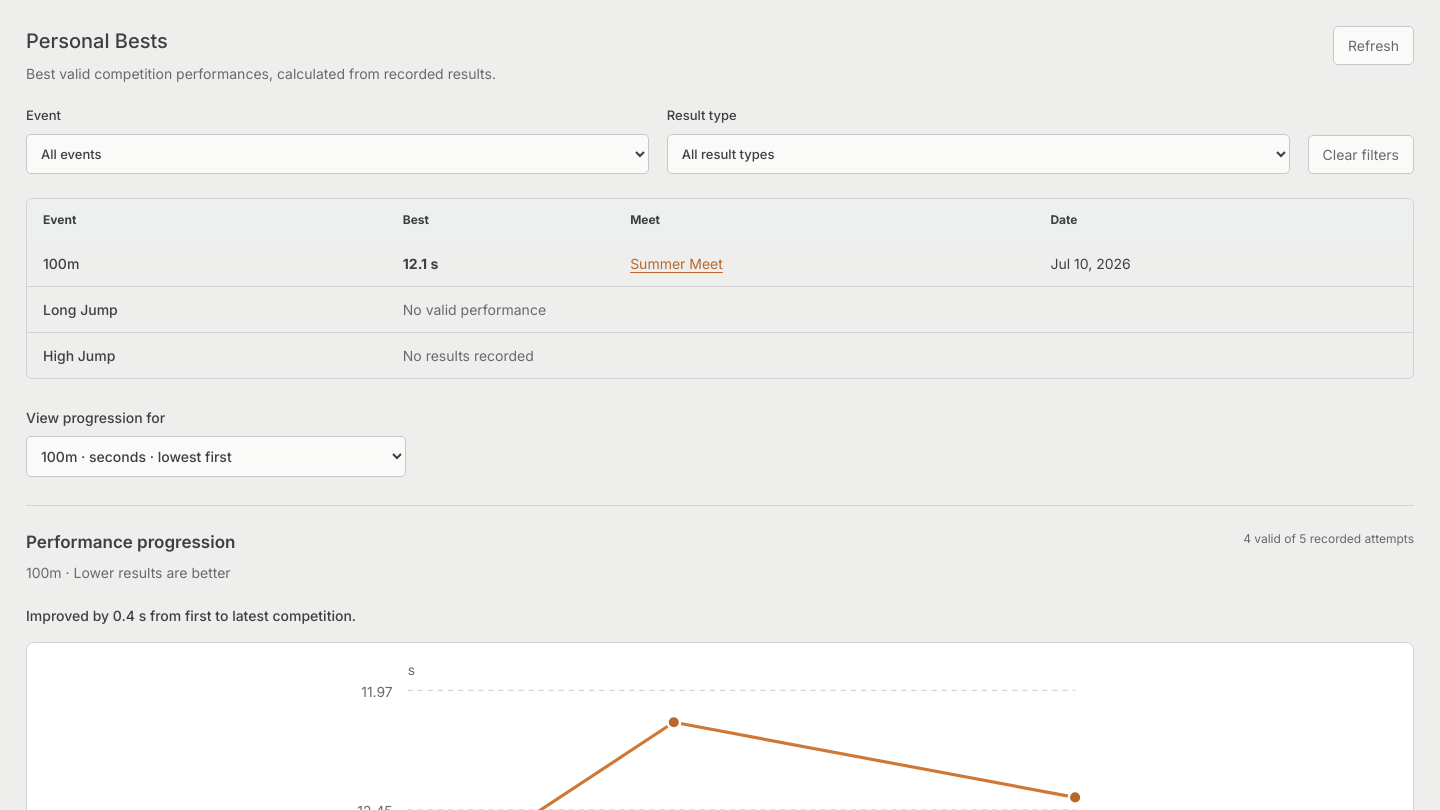
Test: personal bests › distinguishes an invalid-only event from an event with no recorded results
The image size is (1440, 810).
Select "Long Jump · metres · highest first" in the dropdown labelled "View progression for". click: (216, 456)
box: 26,436 -> 406,476
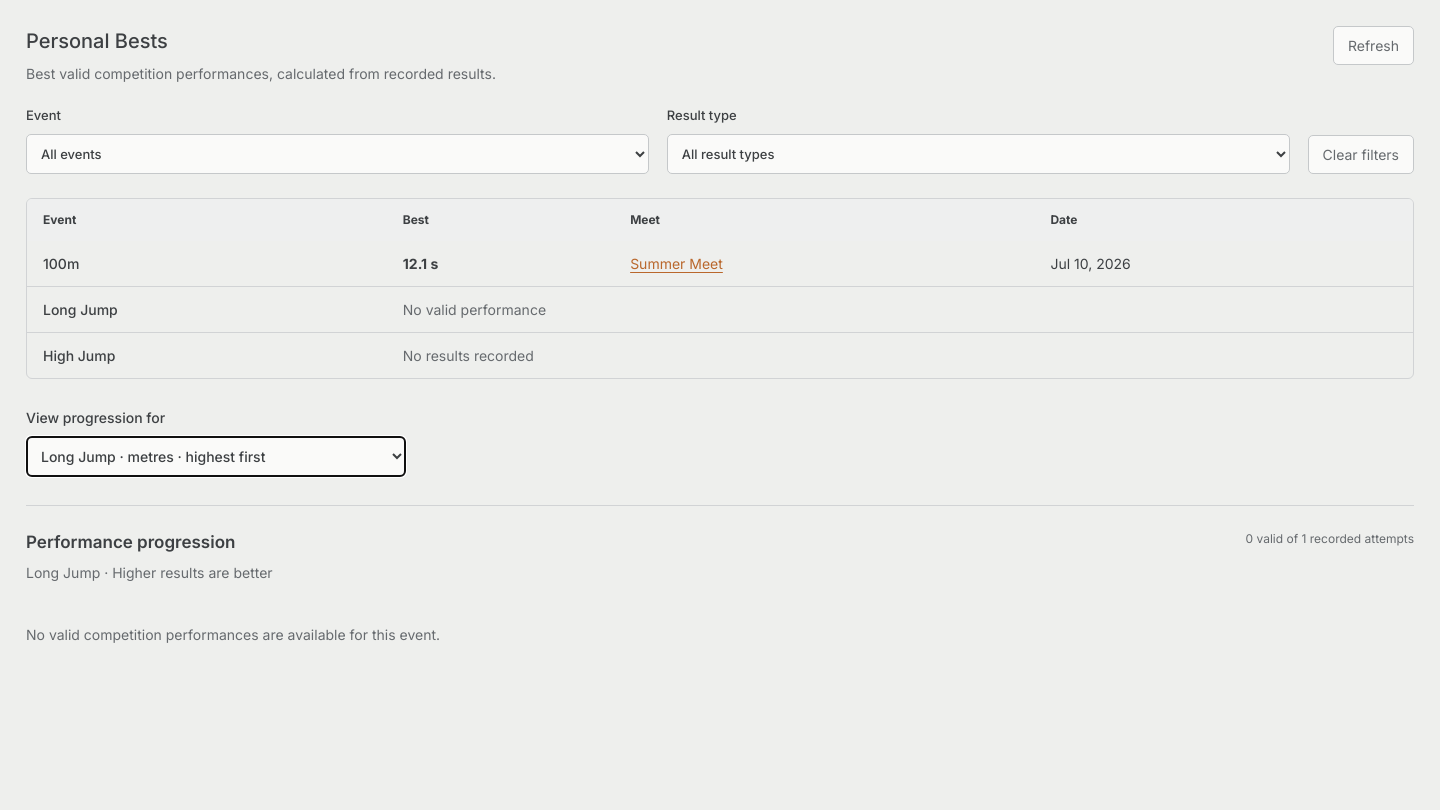
Expected: the text "No valid competition performances are available for this event." is shown, 26,626 -> 440,643
Select "High Jump · metres · highest first" in the dropdown labelled "View progression for". click: (216, 456)
box: 26,436 -> 406,476
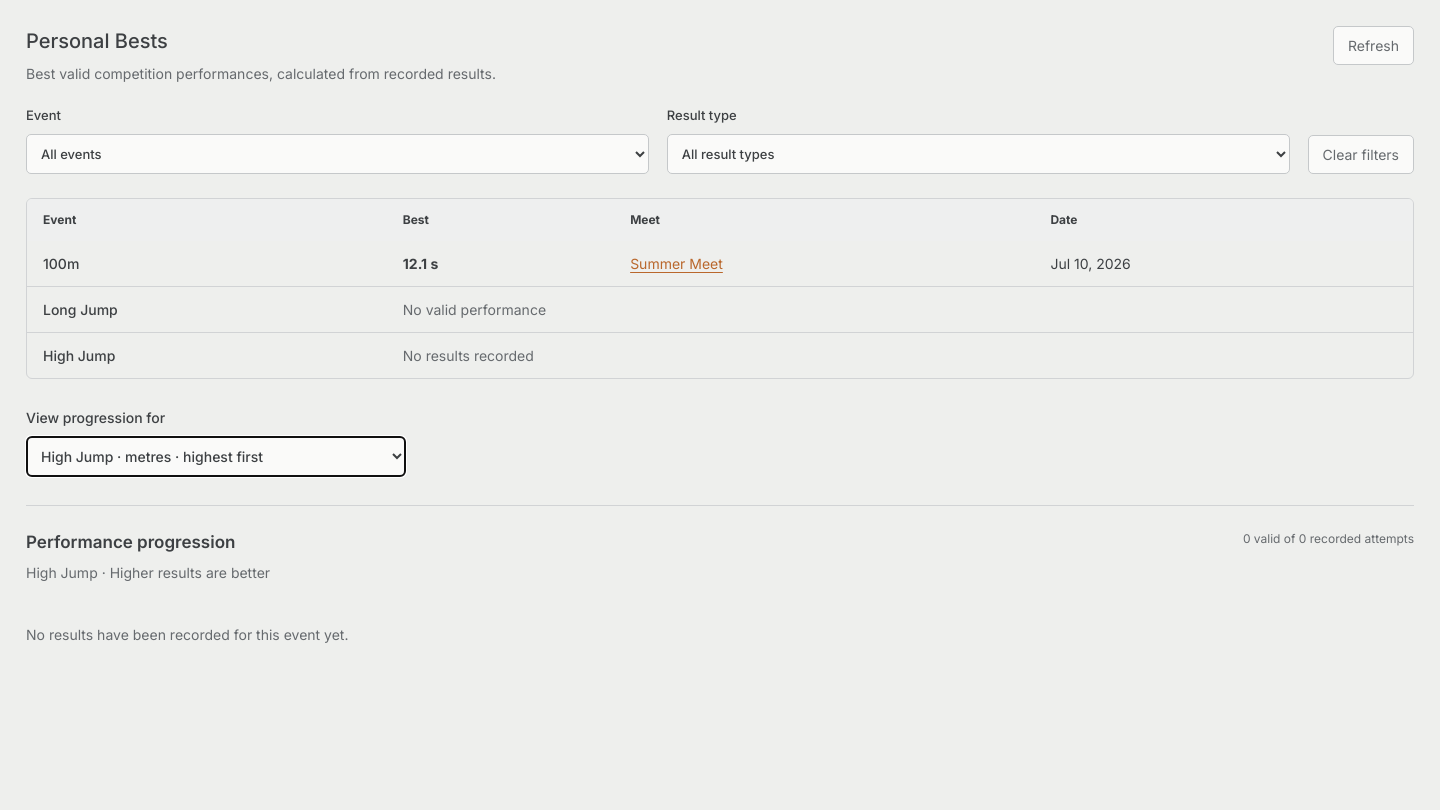
Expected: the text "No results have been recorded for this event yet." is shown, 26,626 -> 348,643
